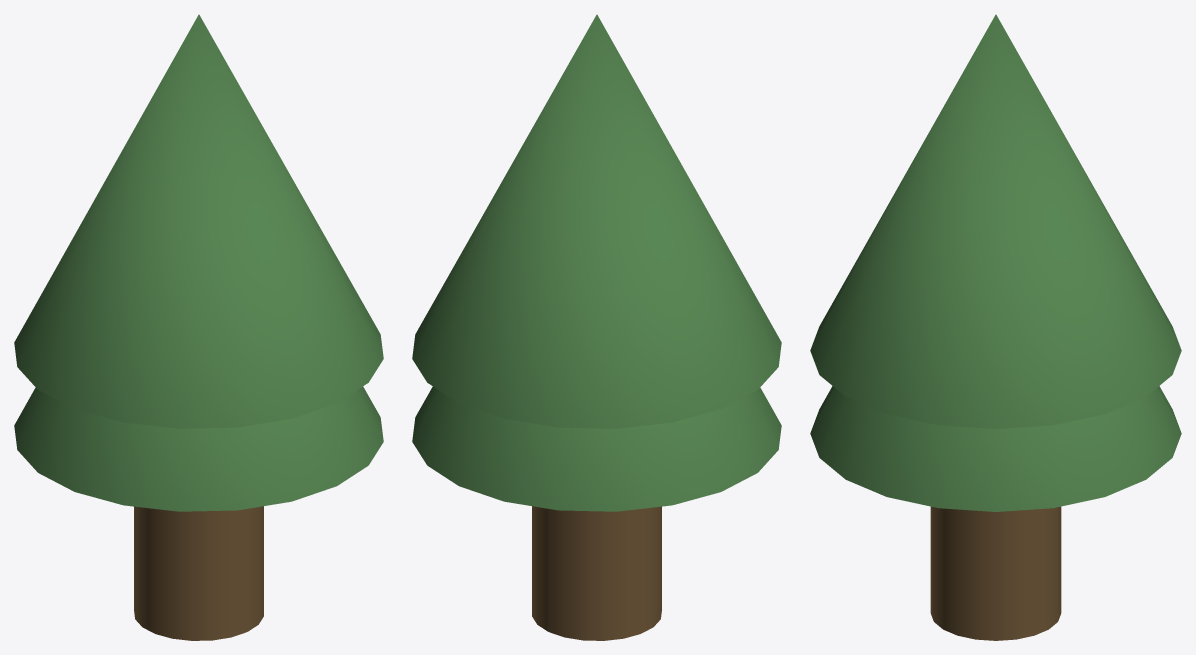
File: Tree.fbx
The picture shows the model from 3 angles, left to right: view 1: azimuth 30°, elevation 25°; view 2: azimuth 150°, elevation 25°; view 3: azimuth 270°, elevation 25°; orthographic projection.
Visible parts, largest first — view 1: pCylinder2; view 2: pCylinder2; view 3: pCylinder2.
Boxes of the visible parts, <box> form: pCylinder2: <box>14,14,383,640</box>; pCylinder2: <box>412,14,781,640</box>; pCylinder2: <box>810,14,1181,640</box>.
Size of the model in its own units: 0.5725 by 1.02 by 0.5725.
